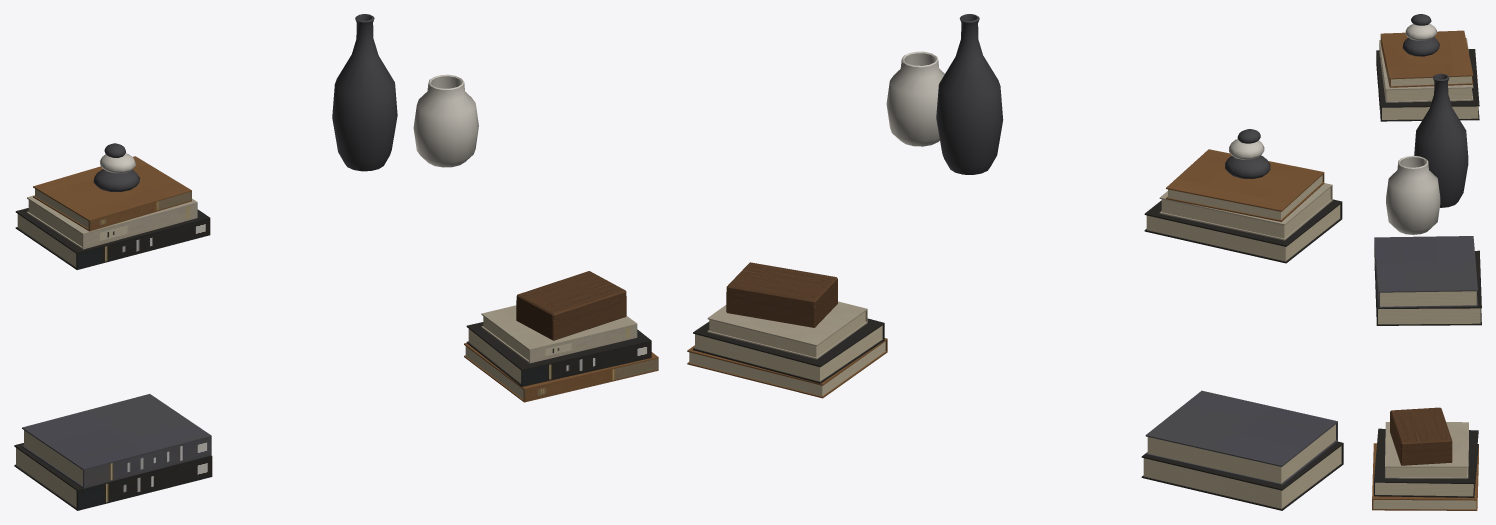
The model's file is decor_a_console_south.gltf.
3 views of the same model, side by side, from view 1: azimuth 30°, elevation 25°; view 2: azimuth 150°, elevation 25°; view 3: azimuth 270°, elevation 25° (orthographic). The views are drawn at different scales.
Visible parts, largest first — view 1: DecorAConsoleSouth_Book05_Spines_NoCollide, DecorAConsoleSouth_Vase01_Charcoal_NoCollide, DecorAConsoleSouth_Book03_Spines_NoCollide, DecorAConsoleSouth_Box01_Walnut_NoCollide, DecorAConsoleSouth_Vase02_Glaze_NoCollide, DecorAConsoleSouth_Book04_Spines_NoCollide, DecorAConsoleSouth_Book07_Spines_NoCollide, DecorAConsoleSouth_Book01_Spines_NoCollide, DecorAConsoleSouth_Book08_Spines_NoCollide, DecorAConsoleSouth_Book02_Spines_NoCollide, DecorAConsoleSouth_Book06_Spines_NoCollide, DecorAConsoleSouth_Ornament01_Charcoal_NoCollide; view 2: DecorAConsoleSouth_Book05_Spines_NoCollide, DecorAConsoleSouth_Vase01_Charcoal_NoCollide, DecorAConsoleSouth_Book03_Spines_NoCollide, DecorAConsoleSouth_Box01_Walnut_NoCollide, DecorAConsoleSouth_Book04_Spines_NoCollide, DecorAConsoleSouth_Book07_Spines_NoCollide, DecorAConsoleSouth_Book01_Spines_NoCollide, DecorAConsoleSouth_Book08_Spines_NoCollide, DecorAConsoleSouth_Vase02_Glaze_NoCollide, DecorAConsoleSouth_Book02_Spines_NoCollide, DecorAConsoleSouth_Book06_Spines_NoCollide, DecorAConsoleSouth_Ornament01_Charcoal_NoCollide; view 3: DecorAConsoleSouth_Book05_Spines_NoCollide, DecorAConsoleSouth_Vase01_Charcoal_NoCollide, DecorAConsoleSouth_Book03_Spines_NoCollide, DecorAConsoleSouth_Vase02_Glaze_NoCollide, DecorAConsoleSouth_Box01_Walnut_NoCollide, DecorAConsoleSouth_Book07_Spines_NoCollide, DecorAConsoleSouth_Book08_Spines_NoCollide, DecorAConsoleSouth_Book04_Spines_NoCollide, DecorAConsoleSouth_Book01_Spines_NoCollide, DecorAConsoleSouth_Book06_Spines_NoCollide, DecorAConsoleSouth_Book02_Spines_NoCollide, DecorAConsoleSouth_Ornament01_Charcoal_NoCollide (+1 smaller).
Boxes of the visible parts, x1=… form: DecorAConsoleSouth_Book05_Spines_NoCollide: x1=22, y1=394, x2=211, y2=488; DecorAConsoleSouth_Vase01_Charcoal_NoCollide: x1=332, y1=14, x2=397, y2=171; DecorAConsoleSouth_Book03_Spines_NoCollide: x1=33, y1=156, x2=191, y2=231; DecorAConsoleSouth_Box01_Walnut_NoCollide: x1=516, y1=271, x2=626, y2=340; DecorAConsoleSouth_Vase02_Glaze_NoCollide: x1=413, y1=74, x2=478, y2=167; DecorAConsoleSouth_Book04_Spines_NoCollide: x1=14, y1=443, x2=212, y2=510; DecorAConsoleSouth_Book07_Spines_NoCollide: x1=466, y1=322, x2=651, y2=386; DecorAConsoleSouth_Book01_Spines_NoCollide: x1=15, y1=208, x2=210, y2=269; DecorAConsoleSouth_Book08_Spines_NoCollide: x1=481, y1=305, x2=637, y2=363; DecorAConsoleSouth_Book02_Spines_NoCollide: x1=27, y1=195, x2=197, y2=249; DecorAConsoleSouth_Book06_Spines_NoCollide: x1=464, y1=343, x2=658, y2=402; DecorAConsoleSouth_Ornament01_Charcoal_NoCollide: x1=93, y1=143, x2=139, y2=191; DecorAConsoleSouth_Book05_Spines_NoCollide: x1=1145, y1=390, x2=1337, y2=485; DecorAConsoleSouth_Vase01_Charcoal_NoCollide: x1=936, y1=14, x2=1003, y2=174; DecorAConsoleSouth_Book03_Spines_NoCollide: x1=1166, y1=149, x2=1324, y2=221; DecorAConsoleSouth_Box01_Walnut_NoCollide: x1=726, y1=262, x2=837, y2=327; DecorAConsoleSouth_Book04_Spines_NoCollide: x1=1141, y1=441, x2=1343, y2=510; DecorAConsoleSouth_Book07_Spines_NoCollide: x1=693, y1=318, x2=884, y2=383; DecorAConsoleSouth_Book01_Spines_NoCollide: x1=1144, y1=199, x2=1342, y2=263; DecorAConsoleSouth_Book08_Spines_NoCollide: x1=707, y1=301, x2=867, y2=359; DecorAConsoleSouth_Vase02_Glaze_NoCollide: x1=886, y1=51, x2=944, y2=146; DecorAConsoleSouth_Book02_Spines_NoCollide: x1=1159, y1=183, x2=1332, y2=240; DecorAConsoleSouth_Book06_Spines_NoCollide: x1=687, y1=338, x2=887, y2=398; DecorAConsoleSouth_Ornament01_Charcoal_NoCollide: x1=1225, y1=129, x2=1270, y2=178; DecorAConsoleSouth_Book05_Spines_NoCollide: x1=1374, y1=236, x2=1477, y2=308; DecorAConsoleSouth_Vase01_Charcoal_NoCollide: x1=1414, y1=73, x2=1468, y2=207; DecorAConsoleSouth_Book03_Spines_NoCollide: x1=1380, y1=30, x2=1473, y2=87; DecorAConsoleSouth_Vase02_Glaze_NoCollide: x1=1386, y1=155, x2=1440, y2=234; DecorAConsoleSouth_Box01_Walnut_NoCollide: x1=1390, y1=407, x2=1452, y2=465; DecorAConsoleSouth_Book07_Spines_NoCollide: x1=1374, y1=428, x2=1478, y2=497; DecorAConsoleSouth_Book08_Spines_NoCollide: x1=1385, y1=422, x2=1468, y2=478; DecorAConsoleSouth_Book04_Spines_NoCollide: x1=1374, y1=250, x2=1481, y2=325; DecorAConsoleSouth_Book01_Spines_NoCollide: x1=1376, y1=49, x2=1479, y2=121; DecorAConsoleSouth_Book06_Spines_NoCollide: x1=1372, y1=443, x2=1478, y2=510; DecorAConsoleSouth_Book02_Spines_NoCollide: x1=1379, y1=38, x2=1473, y2=102; DecorAConsoleSouth_Ornament01_Charcoal_NoCollide: x1=1402, y1=14, x2=1439, y2=56.
Bounding box in the file's own units: 1.44 × 0.907 × 0.275.
5 materials, 2 textured.
